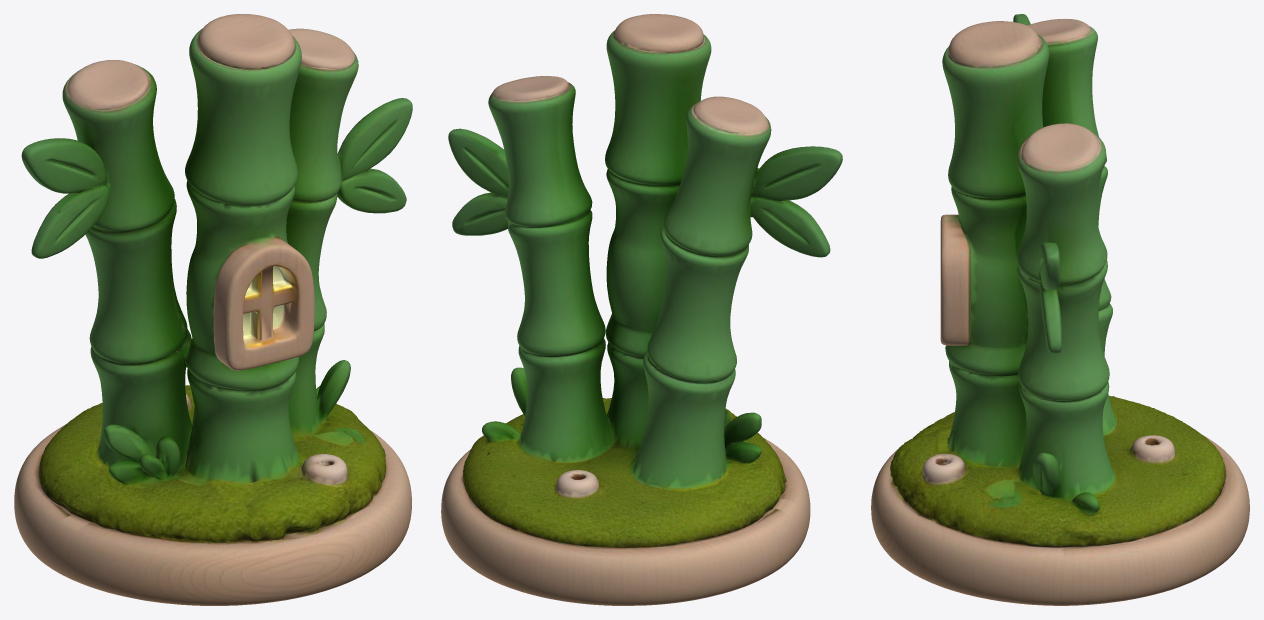
File: bamboo.glb
The picture shows the model from 3 angles, left to right: view 1: azimuth 30°, elevation 25°; view 2: azimuth 150°, elevation 25°; view 3: azimuth 270°, elevation 25°; orthographic projection. The views are drawn at different scales.
Visible parts, largest first — view 1: node_0; view 2: node_0; view 3: node_0.
Boxes of the visible parts, x1,y1,x2,y2 form: node_0: (14, 14, 412, 605); node_0: (441, 14, 842, 605); node_0: (871, 14, 1249, 605).
Size of the model in its own units: 0.8002 by 0.9887 by 0.684.
Materials: 1 (1 with a texture image).
